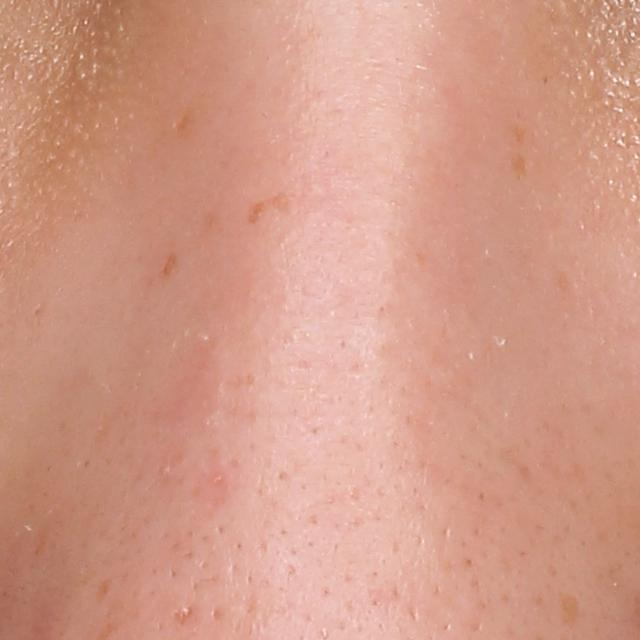melasma: (245, 192, 294, 227), (556, 589, 584, 633), (511, 150, 527, 186), (159, 250, 177, 280)
